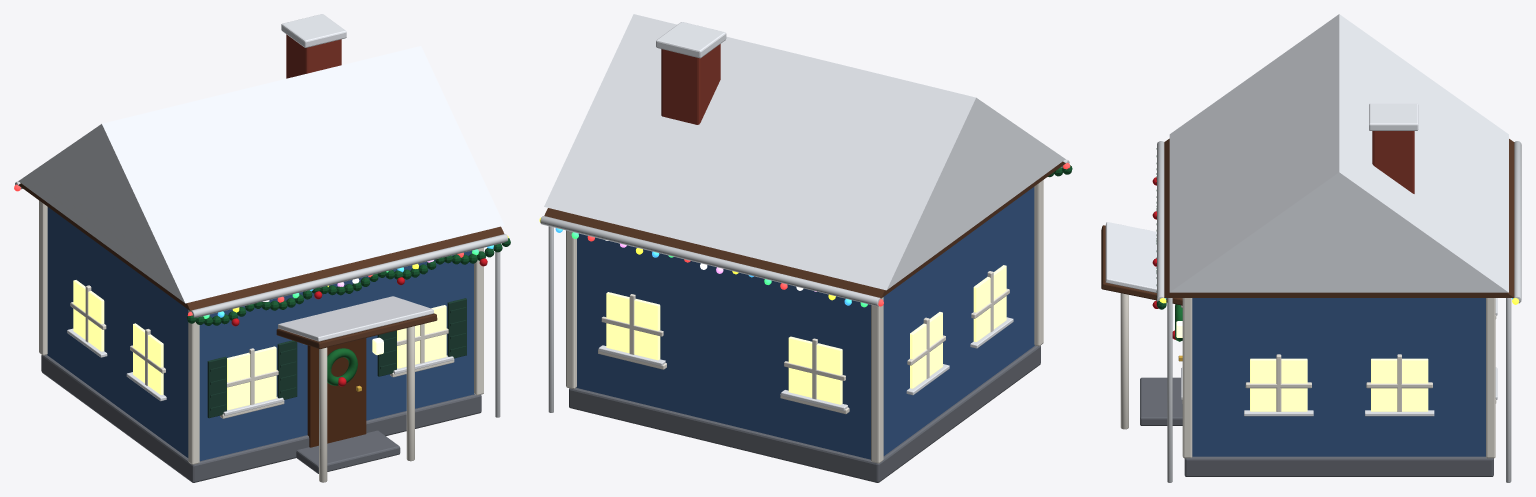
The model's file is house_blue.glb.
3 renders of one model, left to right at view 1: azimuth 30°, elevation 25°; view 2: azimuth 150°, elevation 25°; view 3: azimuth 270°, elevation 25°, orthographic. The views are drawn at different scales.
Parts seen in each view (by area): view 1: house_blue; view 2: house_blue; view 3: house_blue.
Part boxes in pixels (x1,y1,x2,y2): house_blue: [14, 14, 510, 482]; house_blue: [539, 14, 1072, 482]; house_blue: [1101, 14, 1521, 482].
Bounding box in the file's own units: 6.27 × 6.07 × 6.96.
